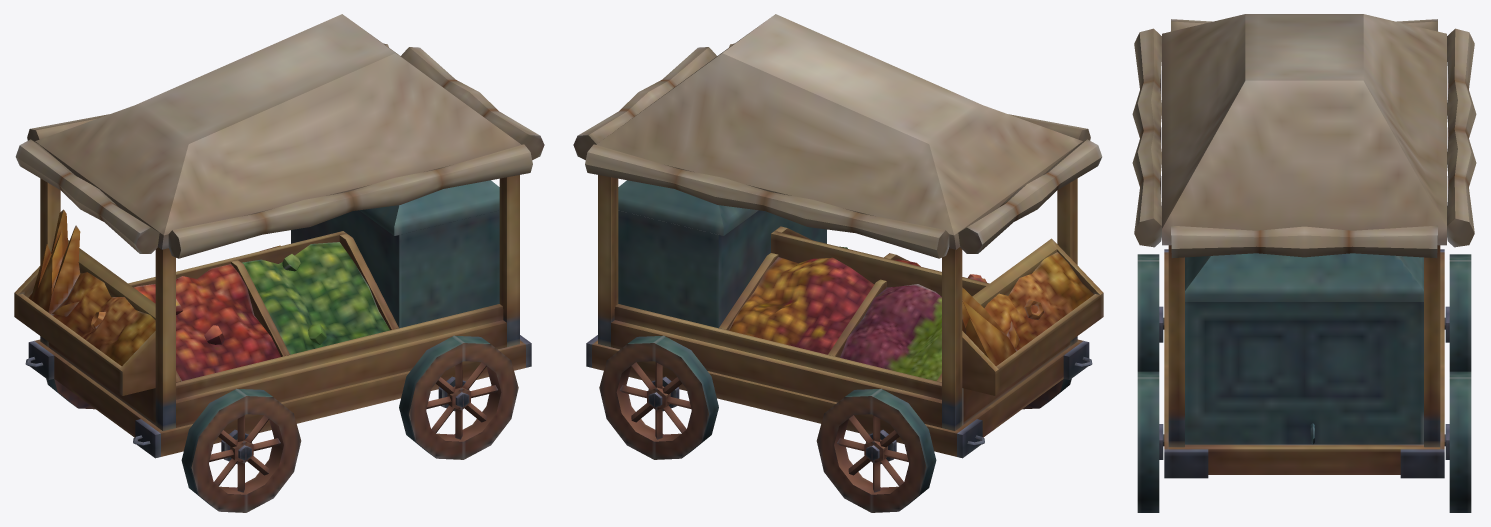
The model's file is zhucheng_tan05.FBX.
3 views of the same model, side by side, from view 1: azimuth 30°, elevation 25°; view 2: azimuth 150°, elevation 25°; view 3: azimuth 270°, elevation 25° (orthographic). The views are drawn at different scales.
Visible parts, largest first — view 1: zhucheng_tan05; view 2: zhucheng_tan05; view 3: zhucheng_tan05.
Part boxes in pixels (<box>): zhucheng_tan05: <box>14,14,544,512</box>; zhucheng_tan05: <box>573,14,1103,512</box>; zhucheng_tan05: <box>1132,14,1476,512</box>.
Size of the model in its own units: 121 by 78.62 by 105.
